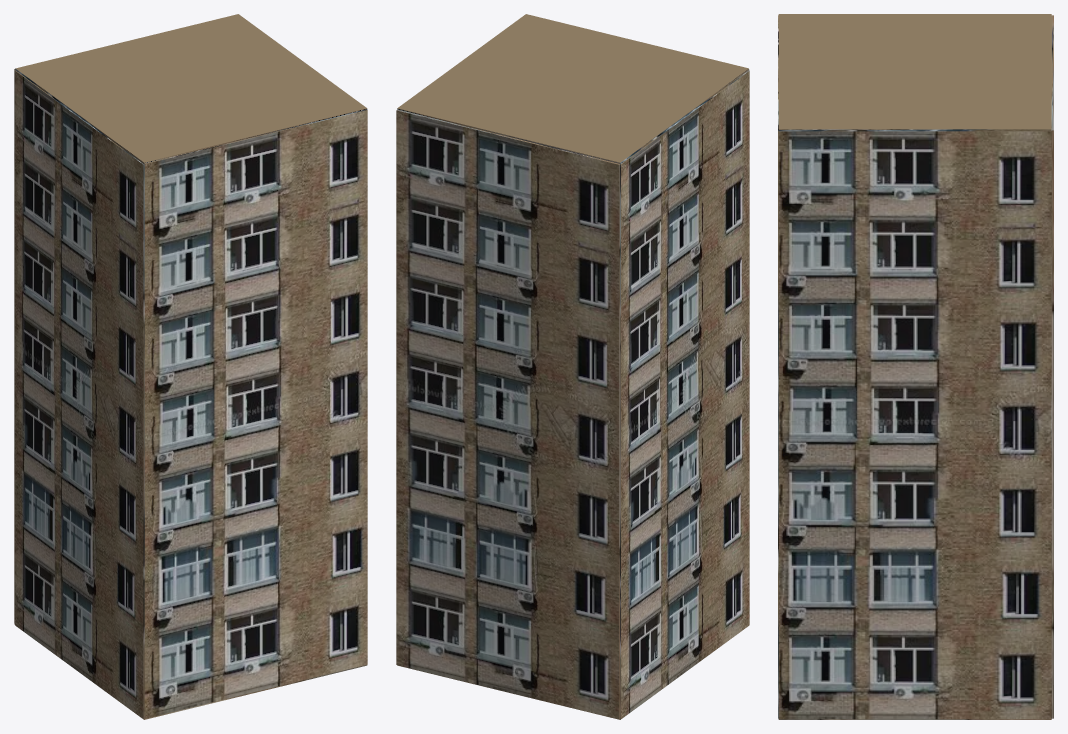
Rendered from Edificio4.obj.
The picture shows the model from 3 angles, left to right: view 1: azimuth 30°, elevation 25°; view 2: azimuth 150°, elevation 25°; view 3: azimuth 270°, elevation 25°; orthographic projection. The views are drawn at different scales.
Visible parts, largest first — view 1: Edificio_SinDiseno1:polySurface4; view 2: Edificio_SinDiseno1:polySurface4; view 3: Edificio_SinDiseno1:polySurface4.
Part boxes in pixels (bbox=[...]): Edificio_SinDiseno1:polySurface4: bbox=[14, 14, 367, 719]; Edificio_SinDiseno1:polySurface4: bbox=[396, 14, 749, 719]; Edificio_SinDiseno1:polySurface4: bbox=[778, 14, 1053, 719].
Bounding box in the file's own units: 5.18 × 12.33 × 5.22.
Materials: 1 (1 with a texture image).
